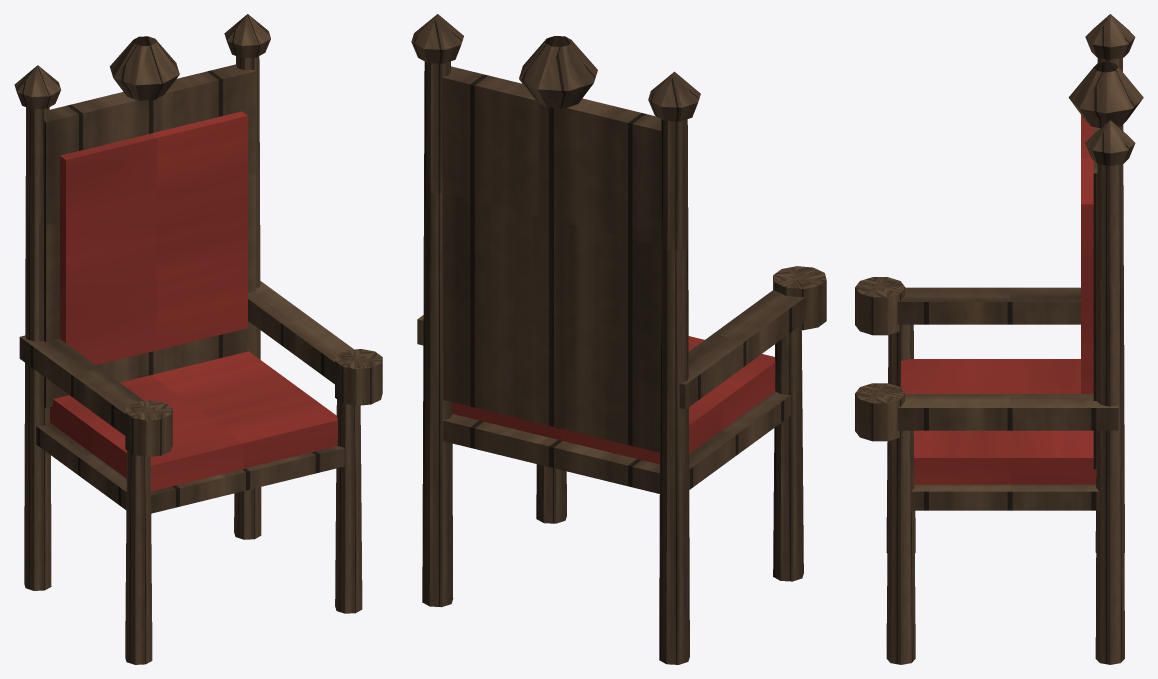
Rendered from Armchair_Carved_1.gltf.
3 renders of one model, left to right at view 1: azimuth 30°, elevation 25°; view 2: azimuth 150°, elevation 25°; view 3: azimuth 270°, elevation 25°, orthographic. The views are drawn at different scales.
Visible parts, largest first — view 1: Armchair_Carved_1; view 2: Armchair_Carved_1; view 3: Armchair_Carved_1.
Boxes of the visible parts, x1=… form: Armchair_Carved_1: x1=14, y1=14, x2=382, y2=664; Armchair_Carved_1: x1=411, y1=14, x2=826, y2=664; Armchair_Carved_1: x1=855, y1=14, x2=1143, y2=664.
Size of the model in its own units: 0.72 by 1.42 by 0.69.
Materials: 2 (2 with a texture image).
